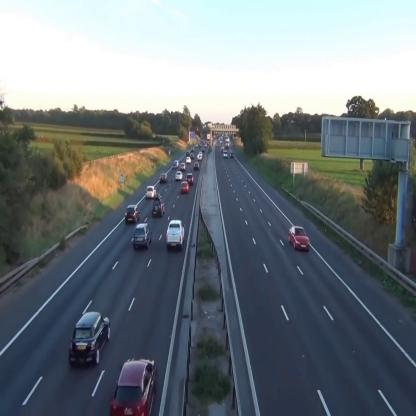car: (110, 357, 156, 416), (69, 310, 110, 368), (288, 225, 310, 251), (166, 220, 185, 250), (133, 224, 152, 248), (125, 204, 140, 222), (152, 199, 165, 217), (180, 181, 190, 192), (146, 186, 155, 198), (160, 173, 168, 183), (186, 173, 193, 184), (176, 170, 183, 180), (180, 162, 186, 170), (194, 161, 199, 169), (186, 156, 191, 164), (224, 150, 228, 158), (230, 153, 234, 158), (175, 160, 179, 165)
